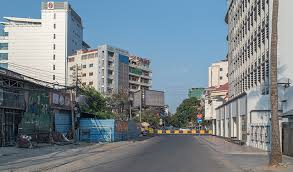strada: (9, 132, 285, 171)
